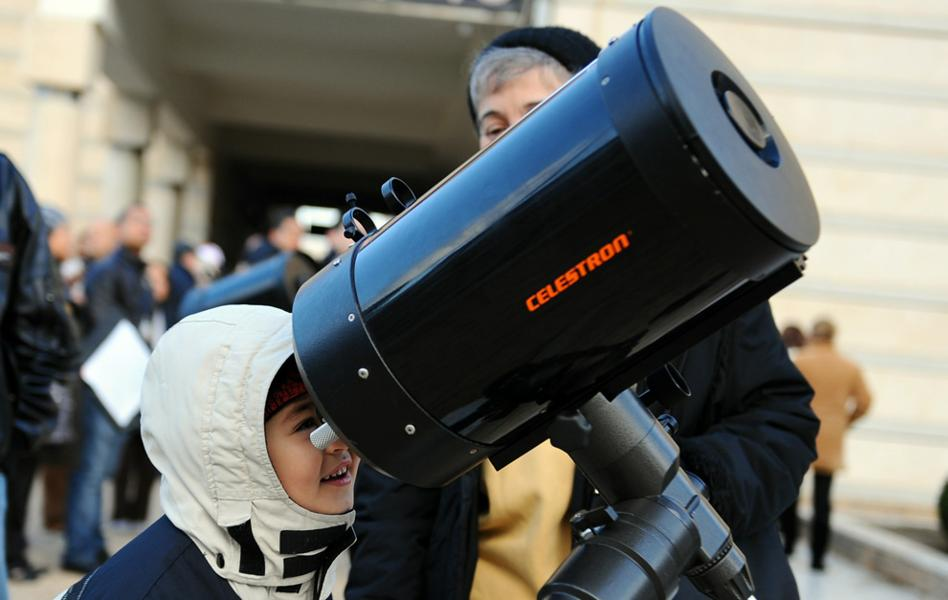person: (58, 305, 372, 600)
